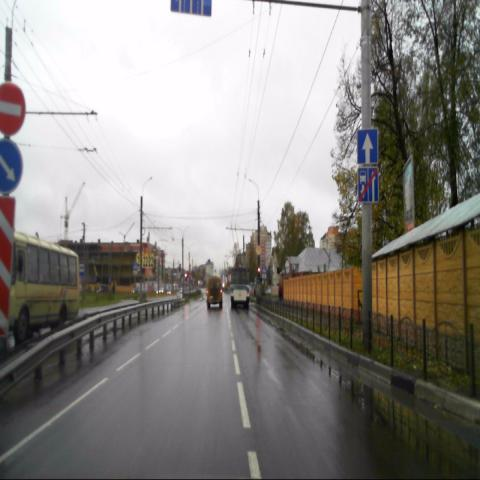3_1: (0, 83, 25, 137)
4_2_1: (0, 139, 23, 195)
5_12: (357, 167, 378, 202)
